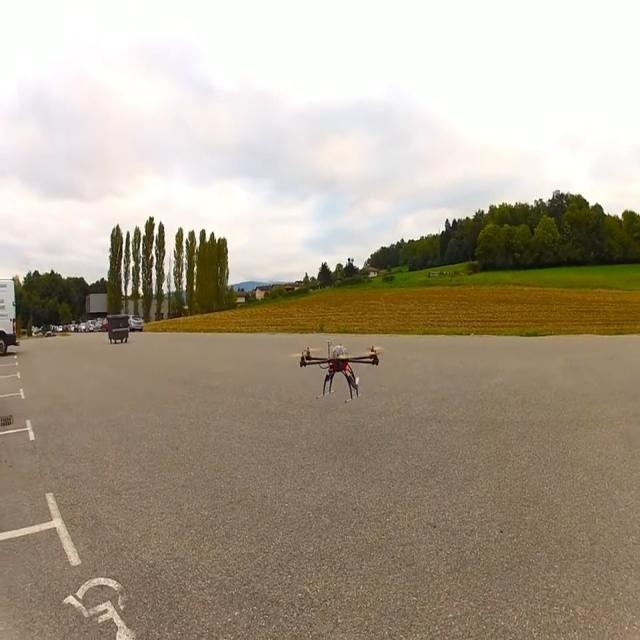drone: (298, 338, 382, 402)
